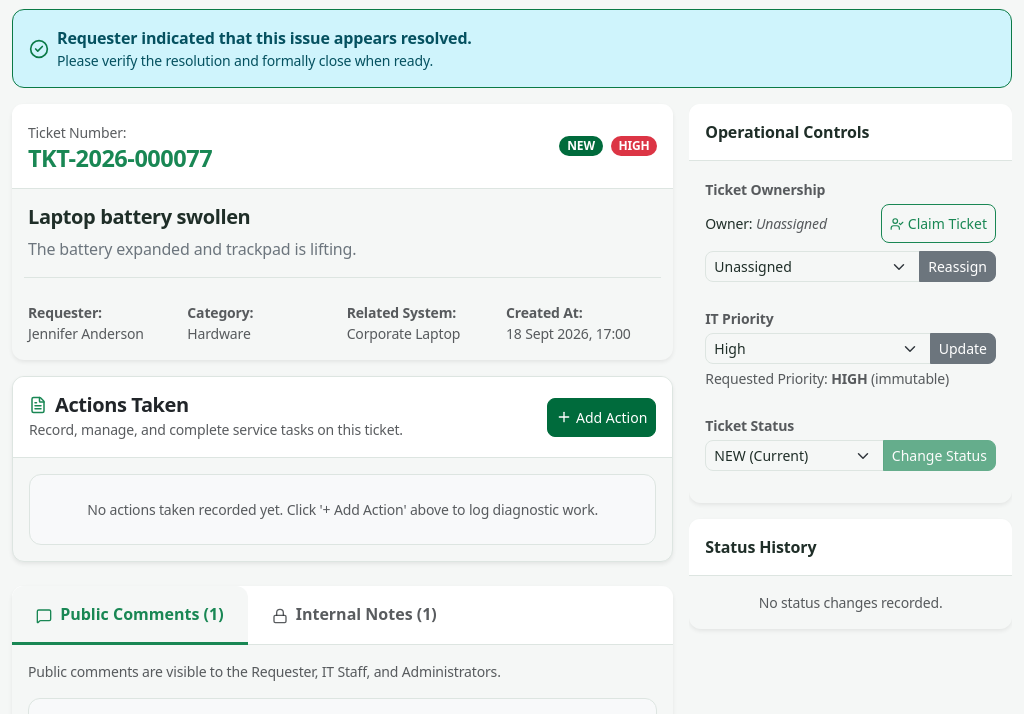
Test: StaffTicketDetail Component (UI-04, AC-12) › switches to Internal Notes tab and renders confidential note interface
Click the tab "Internal Notes (1)": (354,614) x1=248 y1=586 x2=461 y2=642
(page scrolled)
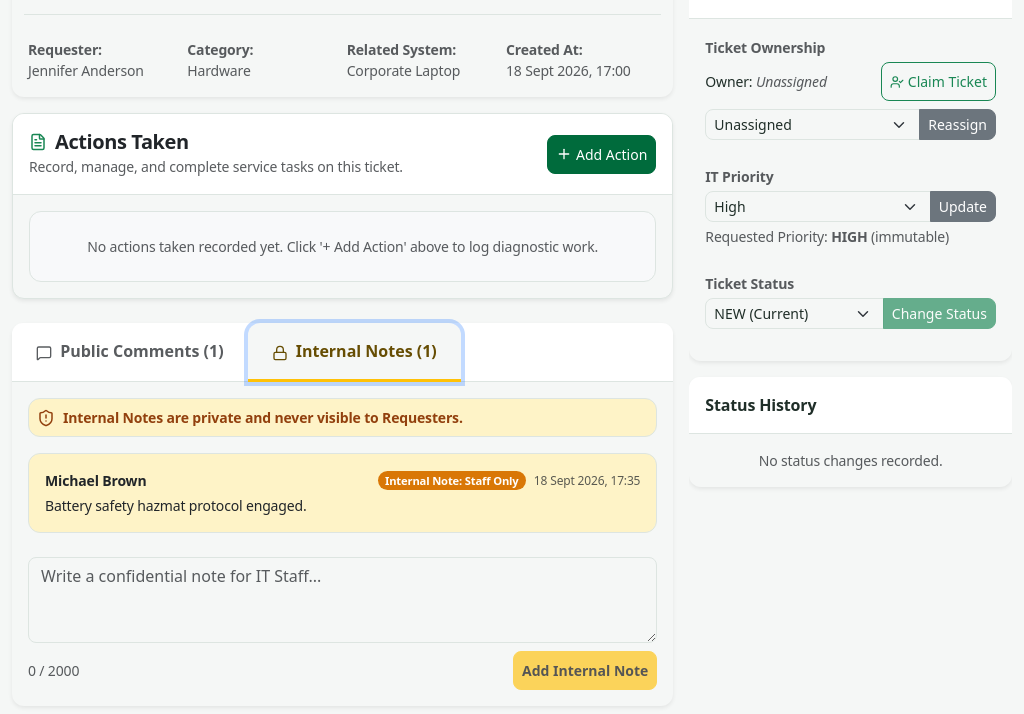
Expected: the text "Internal Notes are private and never visible to Requesters." is shown, x1=63 y1=407 x2=463 y2=428
Expected: the text "Battery safety hazmat protocol engaged." is shown, x1=45 y1=496 x2=306 y2=515
